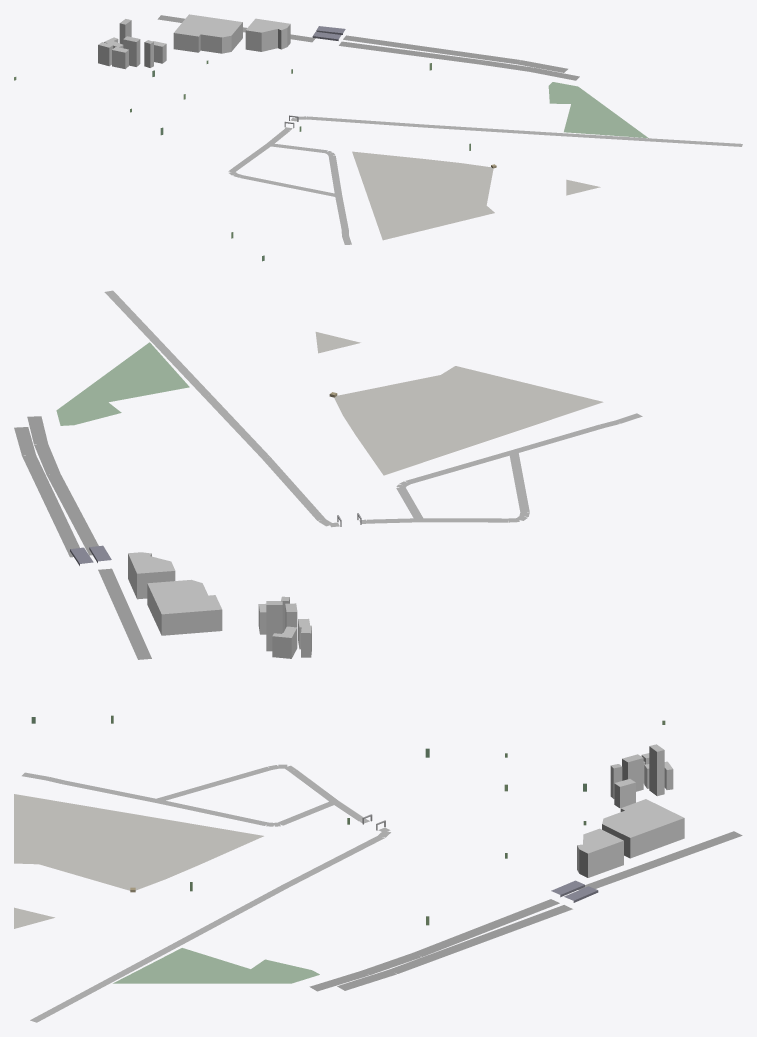
3 renders of one model, top to bottom at view 1: azimuth 30°, elevation 25°; view 2: azimuth 150°, elevation 25°; view 3: azimuth 270°, elevation 25°, orthographic. The views are drawn at different scales.
Size of the model in its own units: 538 by 37.79 by 555.
